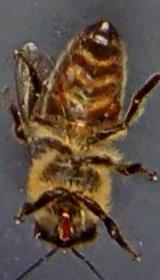varroa_mite: (98, 90, 126, 130)
